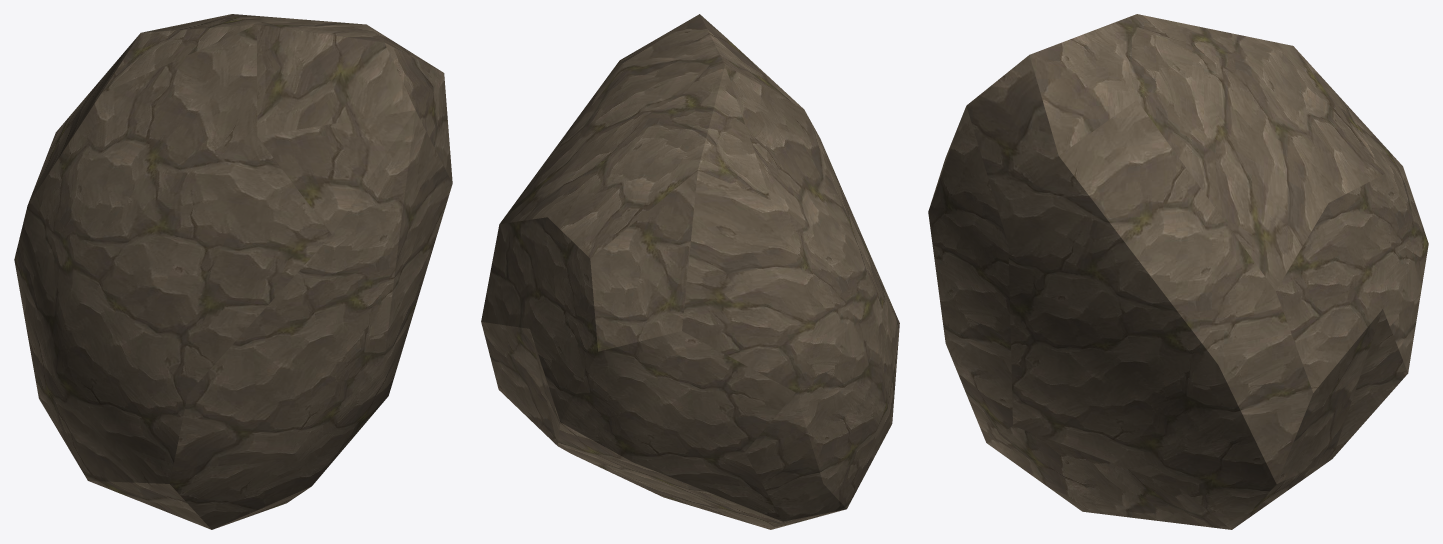
File: grock_e.glb
3 renders of one model, left to right at view 1: azimuth 30°, elevation 25°; view 2: azimuth 150°, elevation 25°; view 3: azimuth 270°, elevation 25°, orthographic. The views are drawn at different scales.
Parts seen in each view (by area): view 1: model; view 2: model; view 3: model.
Boxes of the visible parts, left/top/right/bottom form: model: left=14, top=14, right=452, bottom=529; model: left=481, top=14, right=899, bottom=529; model: left=928, top=14, right=1428, bottom=529.
Size of the model in its own units: 1.15 by 1.28 by 1.18.
1 material, 1 textured.
